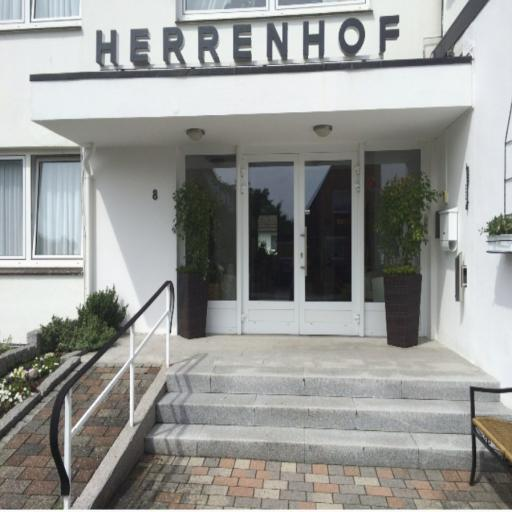corridor: (242, 155, 358, 334), (299, 155, 358, 334)
pole: (2, 337, 168, 512)
sofa: (146, 364, 498, 469)
trash_bin: (470, 387, 511, 485)
